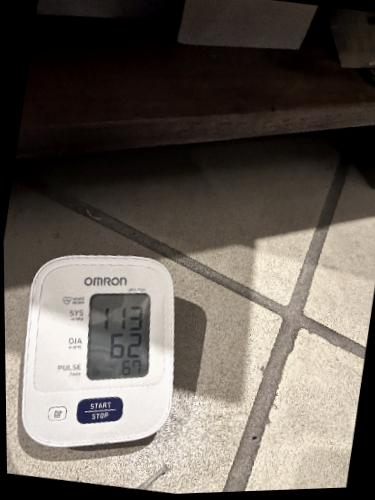bpm: (85, 290, 152, 384)
